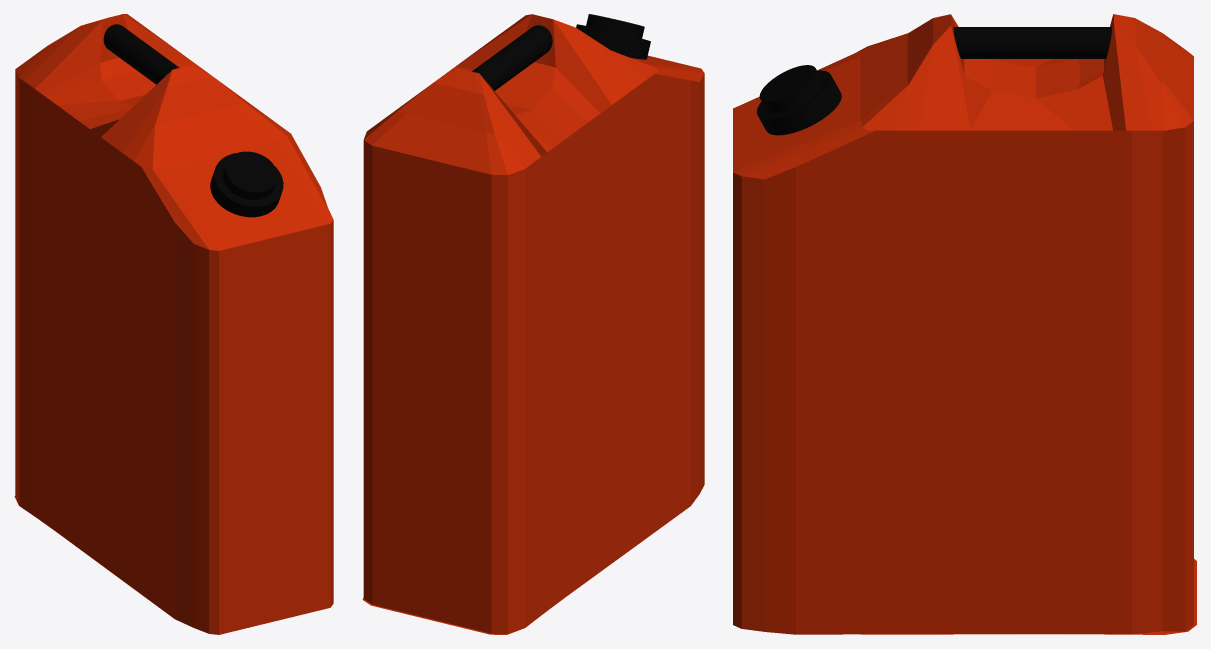
Rendered from gas.glb.
3 views of the same model, side by side, from view 1: azimuth 30°, elevation 25°; view 2: azimuth 150°, elevation 25°; view 3: azimuth 270°, elevation 25° (orthographic). The views are drawn at different scales.
Visible parts, largest first — view 1: Cube, Cylinder.001, Cylinder; view 2: Cube, Cylinder, Cylinder.001; view 3: Cube, Cylinder, Cylinder.001.
Boxes of the visible parts, x1=… form: Cube: x1=14, y1=14, x2=333, y2=634; Cylinder.001: x1=210, y1=151, x2=283, y2=217; Cylinder: x1=103, y1=24, x2=179, y2=84; Cube: x1=362, y1=14, x2=704, y2=634; Cylinder: x1=472, y1=25, x2=552, y2=90; Cylinder.001: x1=576, y1=14, x2=650, y2=59; Cube: x1=733, y1=14, x2=1196, y2=634; Cylinder: x1=953, y1=27, x2=1111, y2=58; Cylinder.001: x1=757, y1=65, x2=841, y2=135.
Size of the model in its own units: 1.07 by 3.39 by 2.49.
2 materials, 2 textured.
